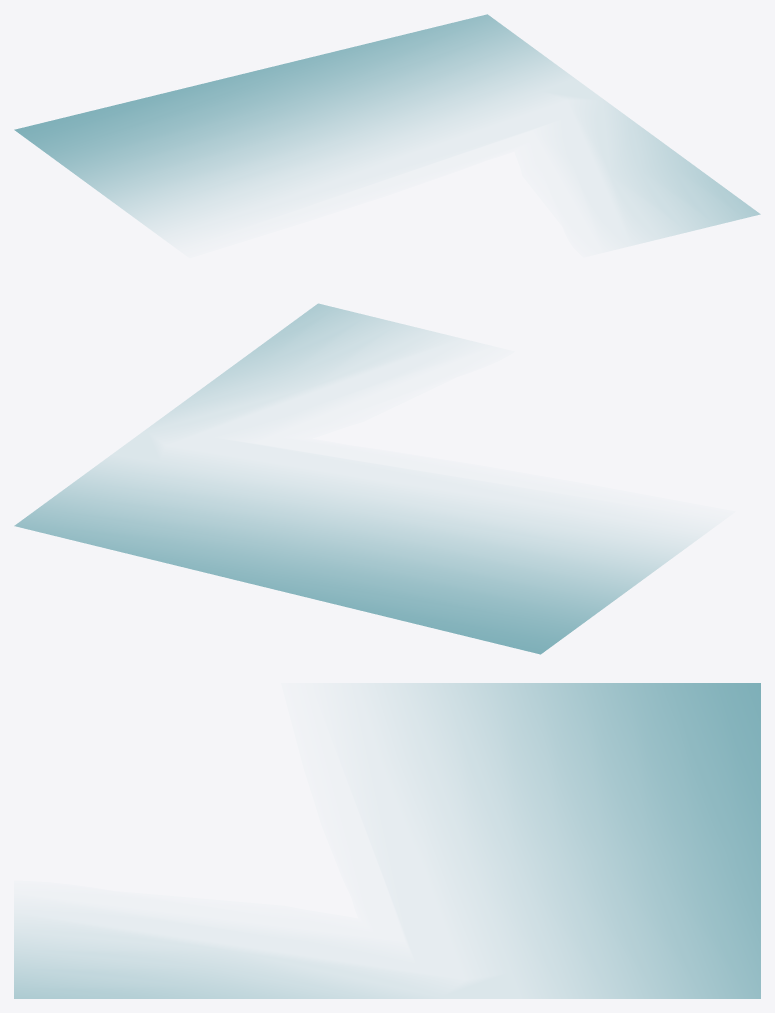
3 views of the same model, one above another, from view 1: azimuth 30°, elevation 25°; view 2: azimuth 150°, elevation 25°; view 3: azimuth 270°, elevation 25° (orthographic). The views are drawn at different scales.
Visible parts, largest first — view 1: city; view 2: city; view 3: city.
Boxes of the visible parts, box(x1,y1,x2,y2) form: city: box(14, 14, 760, 243); city: box(14, 303, 698, 654); city: box(14, 683, 760, 998).
Size of the model in its own units: 500 by 0 by 500.
